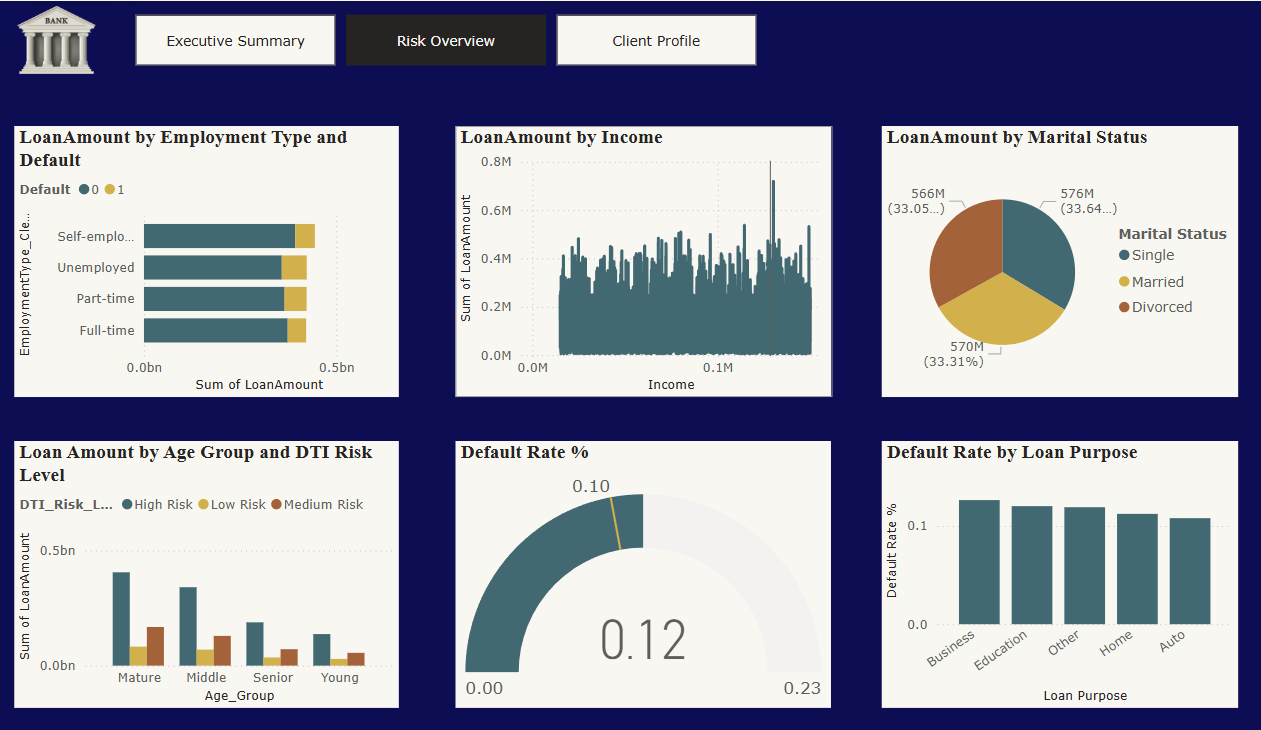

Layout of this report page (visuals, bound fields, positions):
{"tool":"powerbi","page":{"name":" Risk Overview","canvas":[1280,720],"ordinal":1},"visuals":[{"type":"barChart","title":"LoanAmount by Employment Type and Default","fields":{"Y":["Sum(loan_default_prediction loan_default_clean.LoanAmount)"],"Category":["loan_default_prediction loan_default_clean.EmploymentType_Clean"],"Series":["loan_default_prediction loan_default_clean.Default_Target"]},"box":[44.1,120.9,371.2,261.7],"z":0},{"type":"lineChart","title":"LoanAmount by Income","fields":{"Category":["loan_default_prediction loan_default_clean.Income"],"Y":["Sum(loan_default_prediction loan_default_clean.LoanAmount)"]},"box":[470.8,120.9,362.7,261.7],"z":1000},{"type":"gauge","title":"Default Rate % ","fields":{"Y":["loan_default_prediction loan_default_clean.Default Rate %"],"TargetValue":["Sum(loan_default_prediction loan_default_clean.Default_Target)"]},"box":[470.8,425.2,362.7,257.4],"z":2000},{"type":"pieChart","title":"LoanAmount by Marital Status","fields":{"Category":["loan_default_prediction loan_default_clean.MaritalStatus_Clean"],"Y":["Sum(loan_default_prediction loan_default_clean.LoanAmount)"]},"box":[881.8,120.9,344.2,261.7],"z":3000},{"type":"clusteredColumnChart","title":"Loan Amount by Age Group and DTI Risk Level","fields":{"Category":["loan_default_prediction loan_default_clean.Age_Group"],"Y":["Sum(loan_default_prediction loan_default_clean.LoanAmount)"],"Series":["loan_default_prediction loan_default_clean.DTI_Risk_Level"]},"box":[44.1,425.2,371.2,257.4],"z":4000},{"type":"clusteredColumnChart","title":"Default Rate by Loan Purpose","fields":{"Category":["loan_default_prediction loan_default_clean.LoanPurpose_Clean"],"Y":["loan_default_prediction loan_default_clean.Default Rate %"]},"box":[881.8,425.2,344.2,257.4],"z":5000},{"type":"pageNavigator","box":[162.1,12.8,600.2,49.8],"z":6000},{"type":"image","box":[37,0,96.7,75.4],"z":7000}]}

Visuals, with their boxes in screenshot pixels (x1, y1, x2, y2), scaled from the page's 1280x720 canvas onto the 1261x730 screenshot:
"LoanAmount by Employment Type and Default" barChart: 43:123:409:388
"LoanAmount by Income" lineChart: 464:123:821:388
"Default Rate % " gauge: 464:431:821:692
"LoanAmount by Marital Status" pieChart: 869:123:1208:388
"Loan Amount by Age Group and DTI Risk Level" clusteredColumnChart: 43:431:409:692
"Default Rate by Loan Purpose" clusteredColumnChart: 869:431:1208:692
pageNavigator: 160:13:751:63
image: 36:0:132:76
